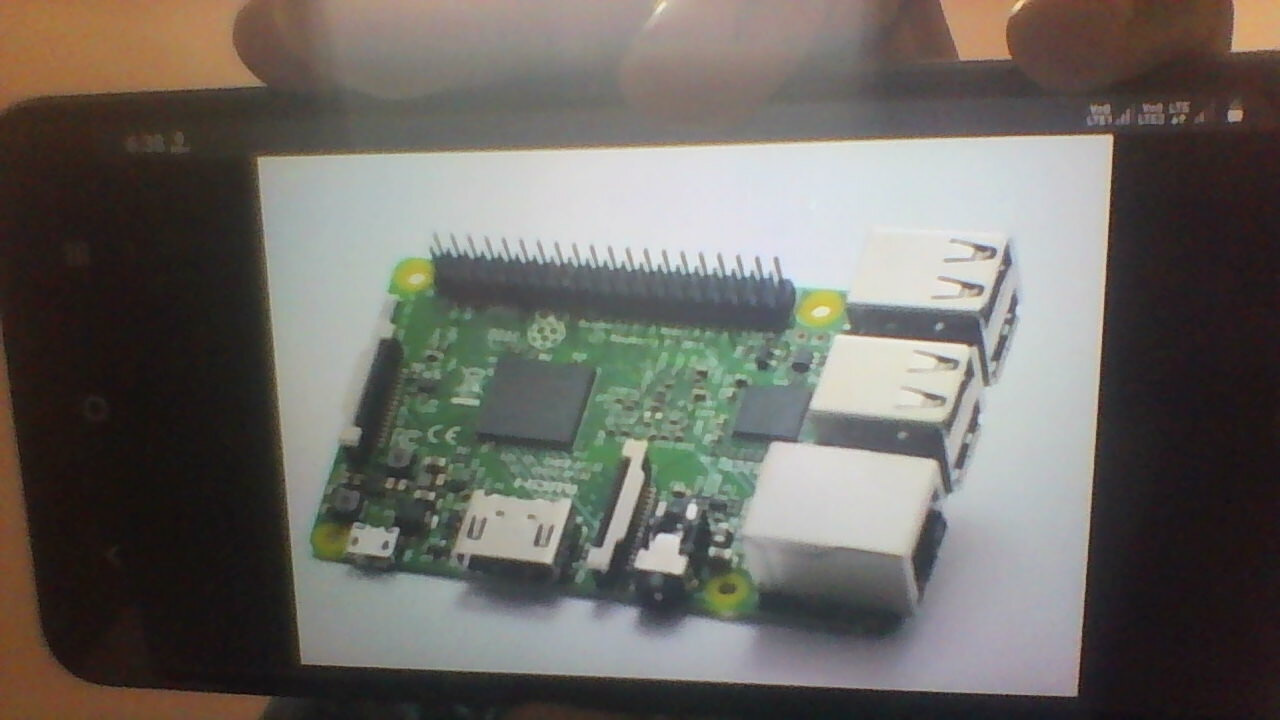aud: (635, 481, 708, 623)
eth: (748, 443, 943, 609)
usb: (810, 331, 985, 439), (851, 228, 1018, 324)
